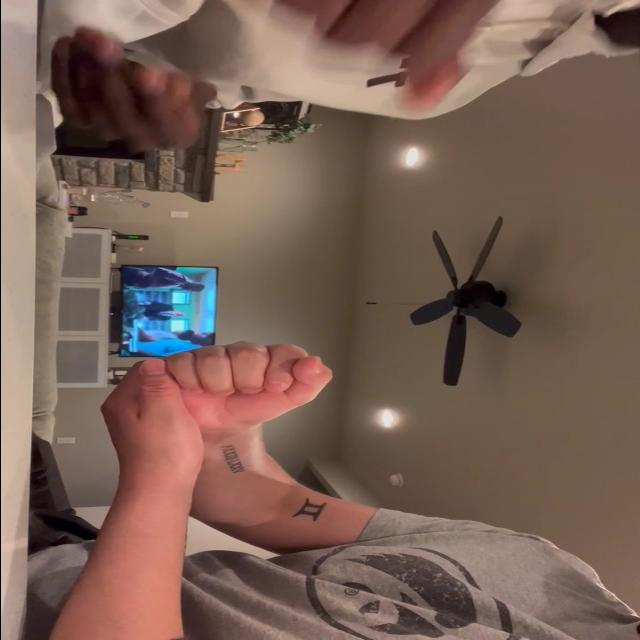Rock: (167, 342, 333, 428)
